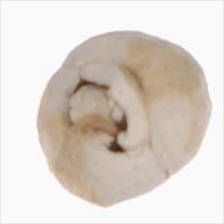L3: (66, 68, 152, 155)
L4: (37, 31, 213, 208)
